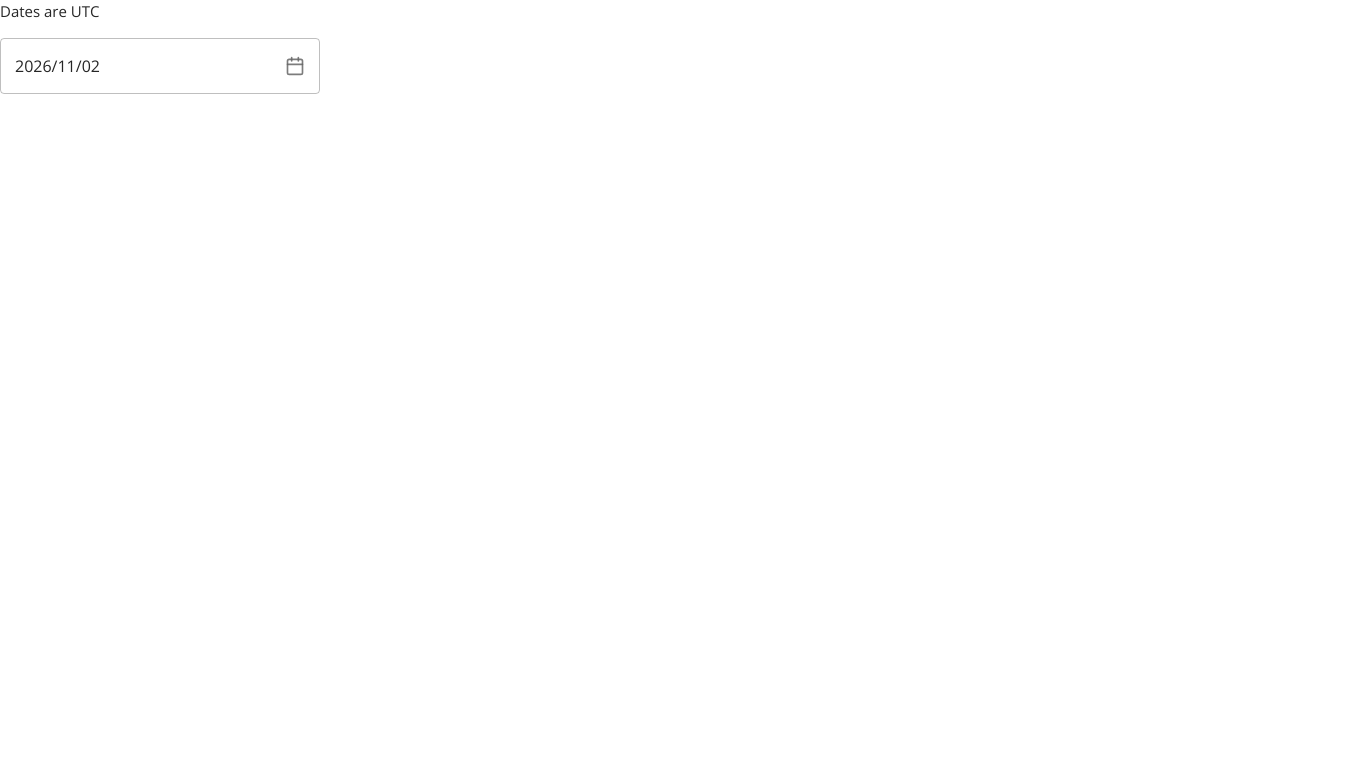
Test case: shared form primitives › DatePickerUtc emits the picked day at UTC midnight
Later steps or results of the test are not shown.
Click the button named "Start date" at {"x": 57, "y": 66}, box x1=0 y1=38 x2=320 y2=94
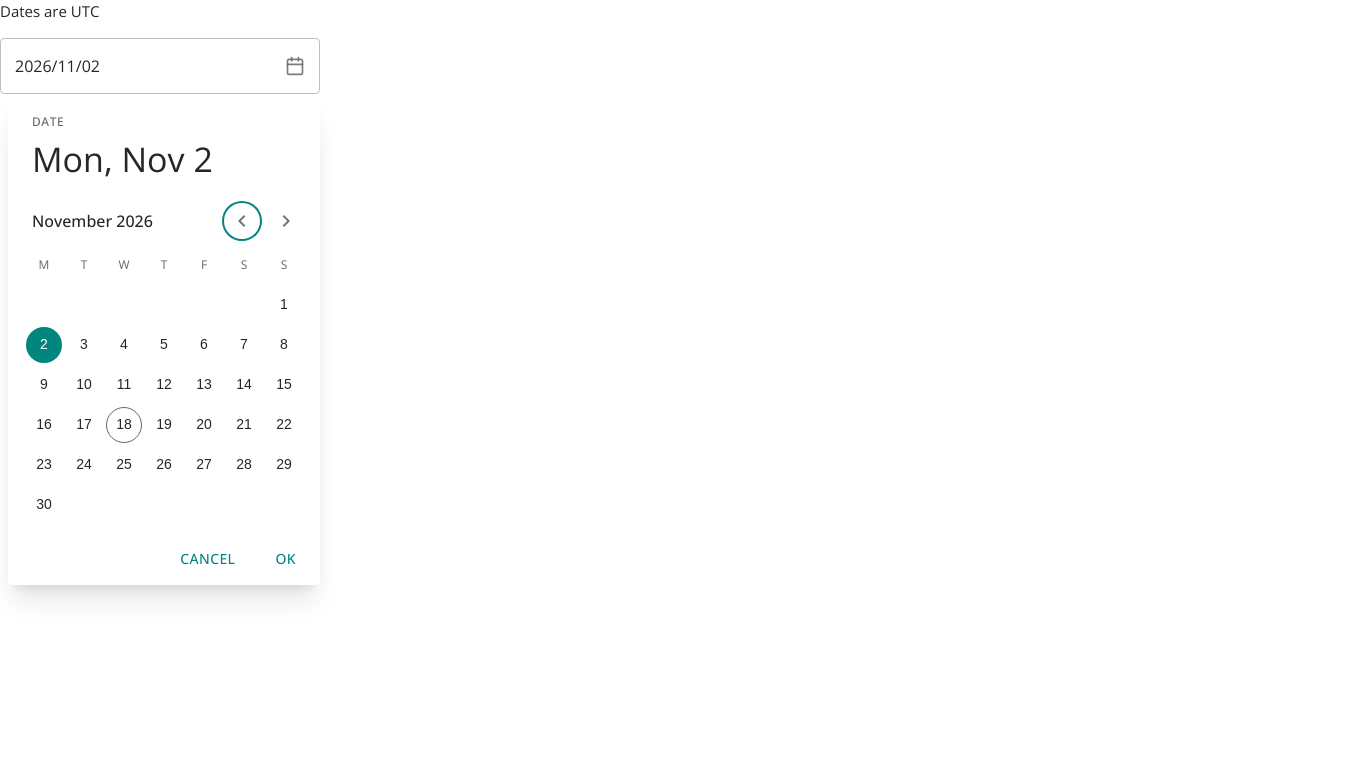
Click the button named "November 4th, 2026" at {"x": 124, "y": 344}, box x1=106 y1=326 x2=142 y2=362
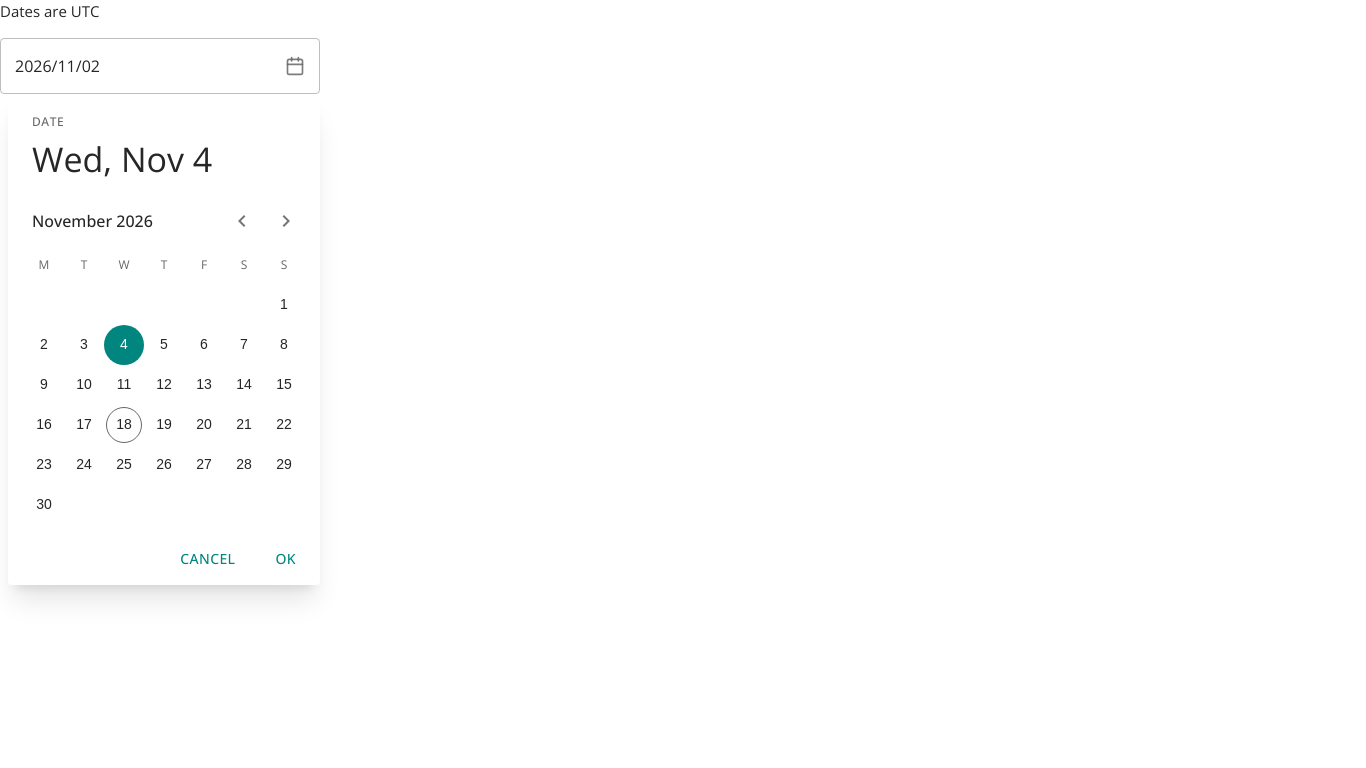
Result: the text "Wed, Nov 4" is shown at x1=32 y1=136 x2=212 y2=182
